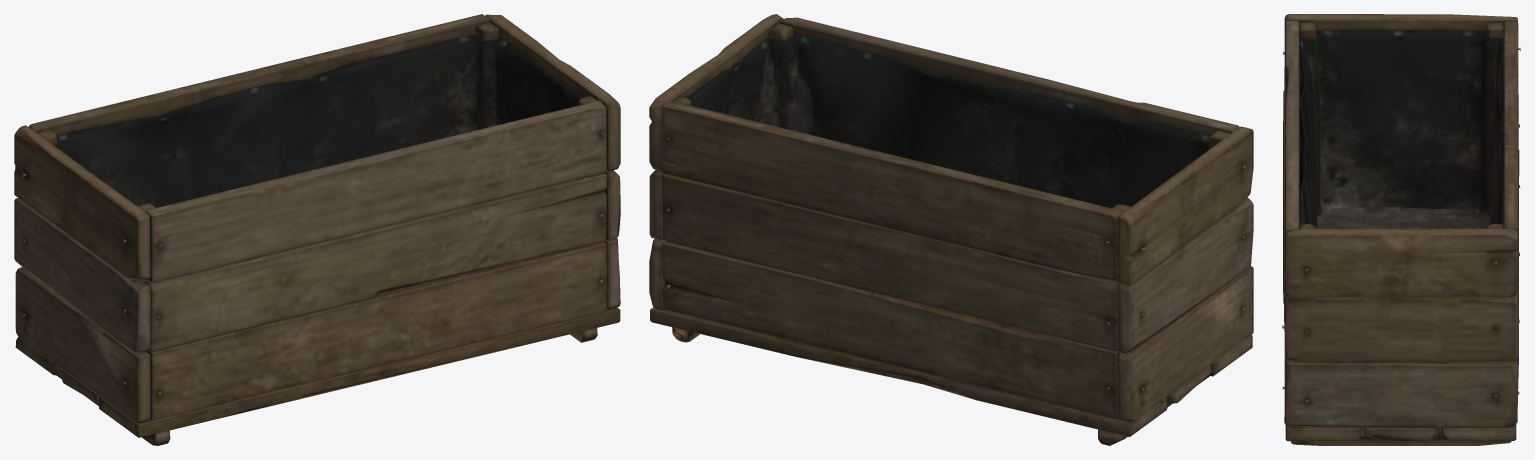
Rendered from planter_box_01.glb.
3 renders of one model, left to right at view 1: azimuth 30°, elevation 25°; view 2: azimuth 150°, elevation 25°; view 3: azimuth 270°, elevation 25°, orthographic. The views are drawn at different scales.
Parts seen in each view (by area): view 1: planter_box_01; view 2: planter_box_01; view 3: planter_box_01.
Part boxes in pixels (x1=…): planter_box_01: x1=14, y1=14, x2=620, y2=445; planter_box_01: x1=649, y1=14, x2=1253, y2=445; planter_box_01: x1=1282, y1=14, x2=1520, y2=445.
Bounding box in the file's own units: 0.9126 × 0.425 × 0.4137.
Materials: 1 (1 with a texture image).
